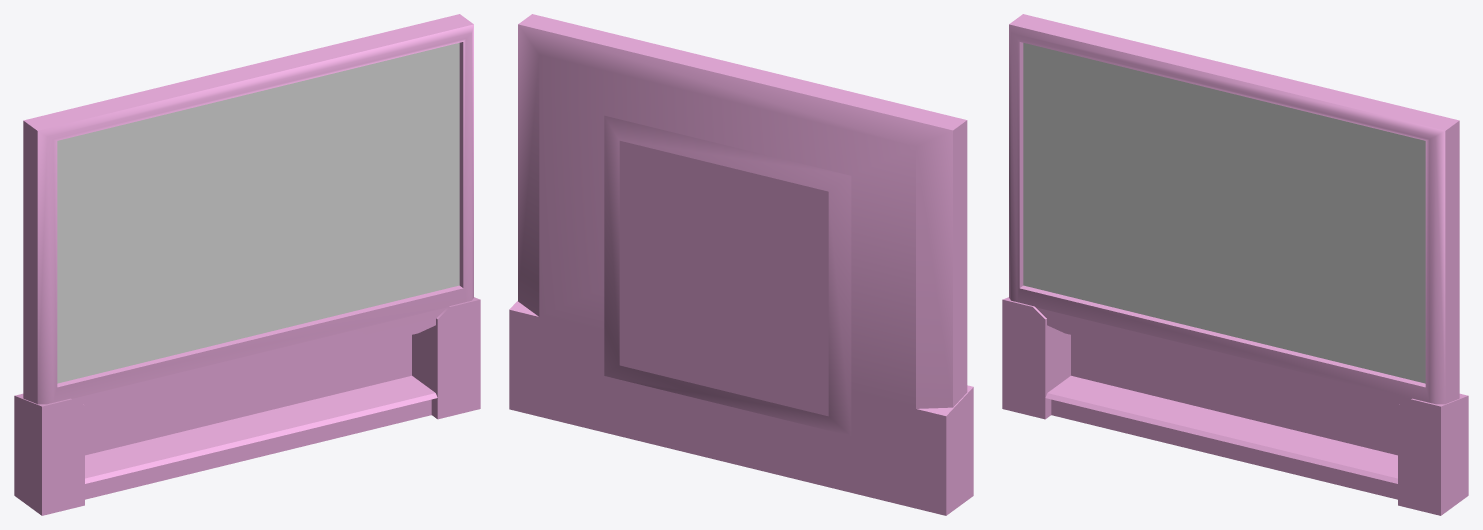
3 renders of one model, left to right at view 1: azimuth 30°, elevation 25°; view 2: azimuth 150°, elevation 25°; view 3: azimuth 330°, elevation 25°, orthographic.
Parts seen in each view (by area): view 1: suitetv_large; view 2: suitetv_large; view 3: suitetv_large.
Boxes of the visible parts, x1,y1,x2,y2 form: suitetv_large: (14,14,480,515); suitetv_large: (509,14,973,515); suitetv_large: (1002,14,1468,515).
Bounding box in the file's own units: 135 × 112 × 16.74.
